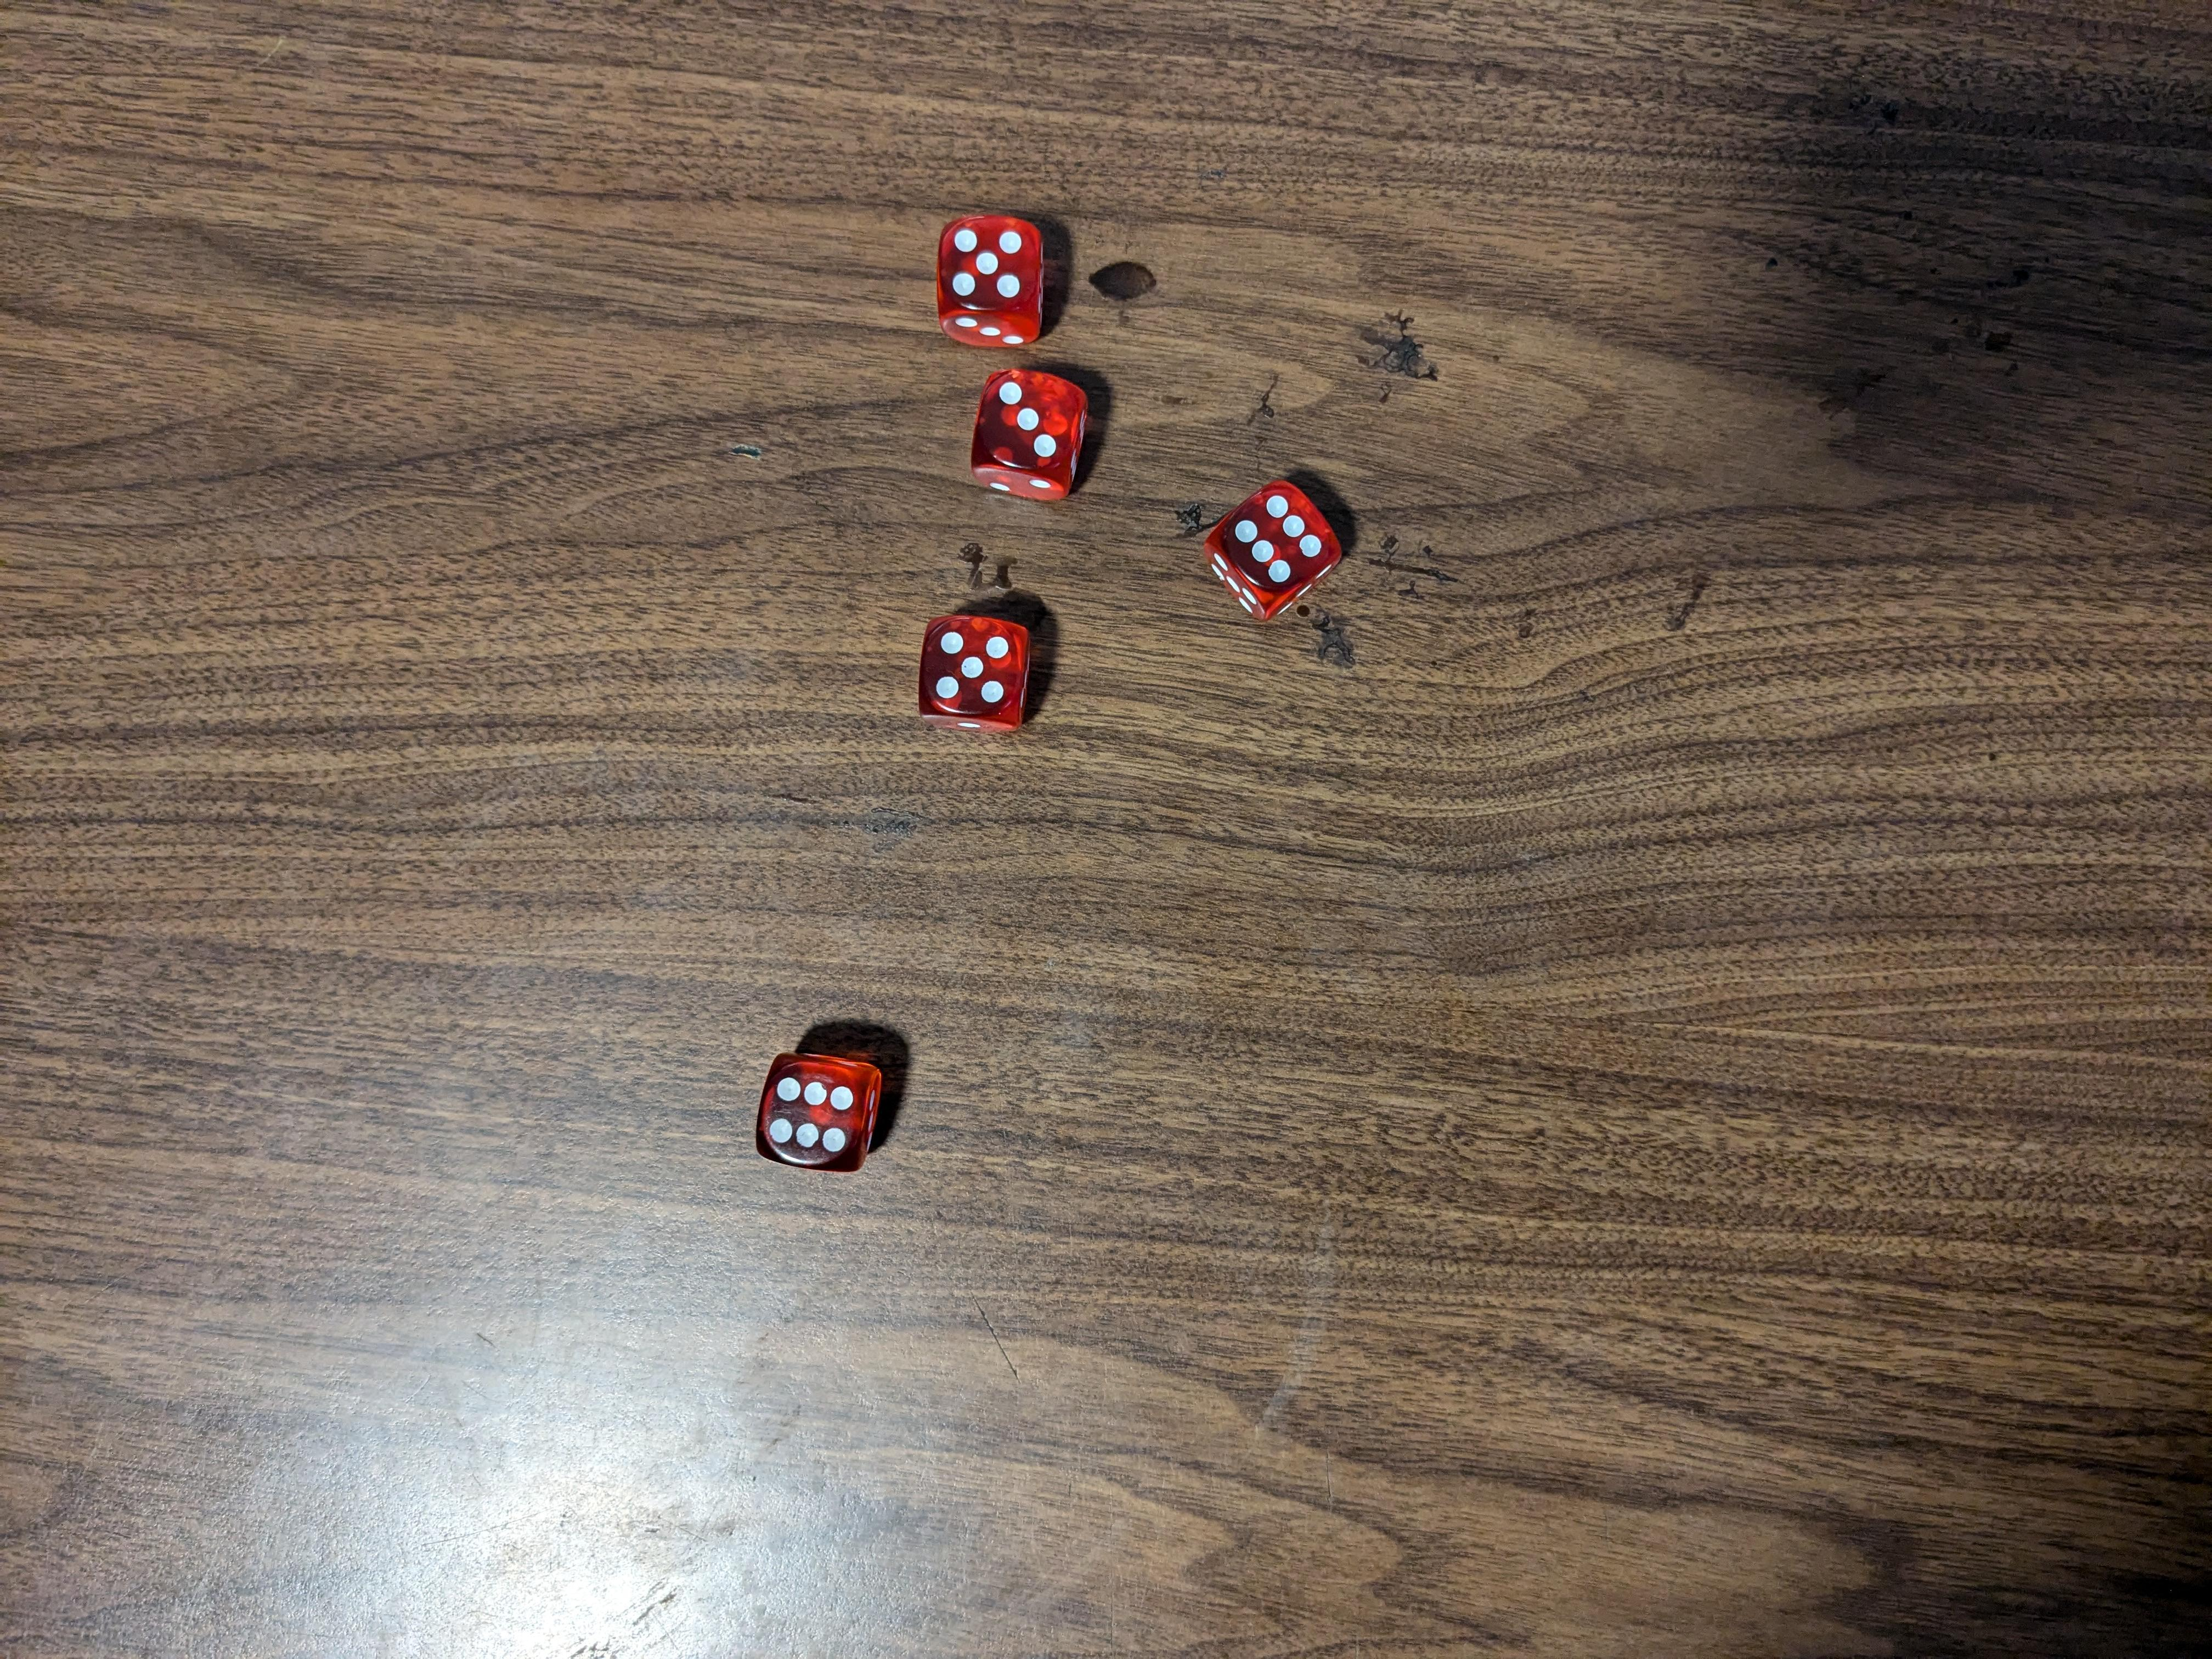five: (934, 209, 1047, 350), (911, 615, 1042, 735)
six: (1204, 479, 1343, 633), (758, 1044, 880, 1171)
three: (972, 366, 1094, 509)
